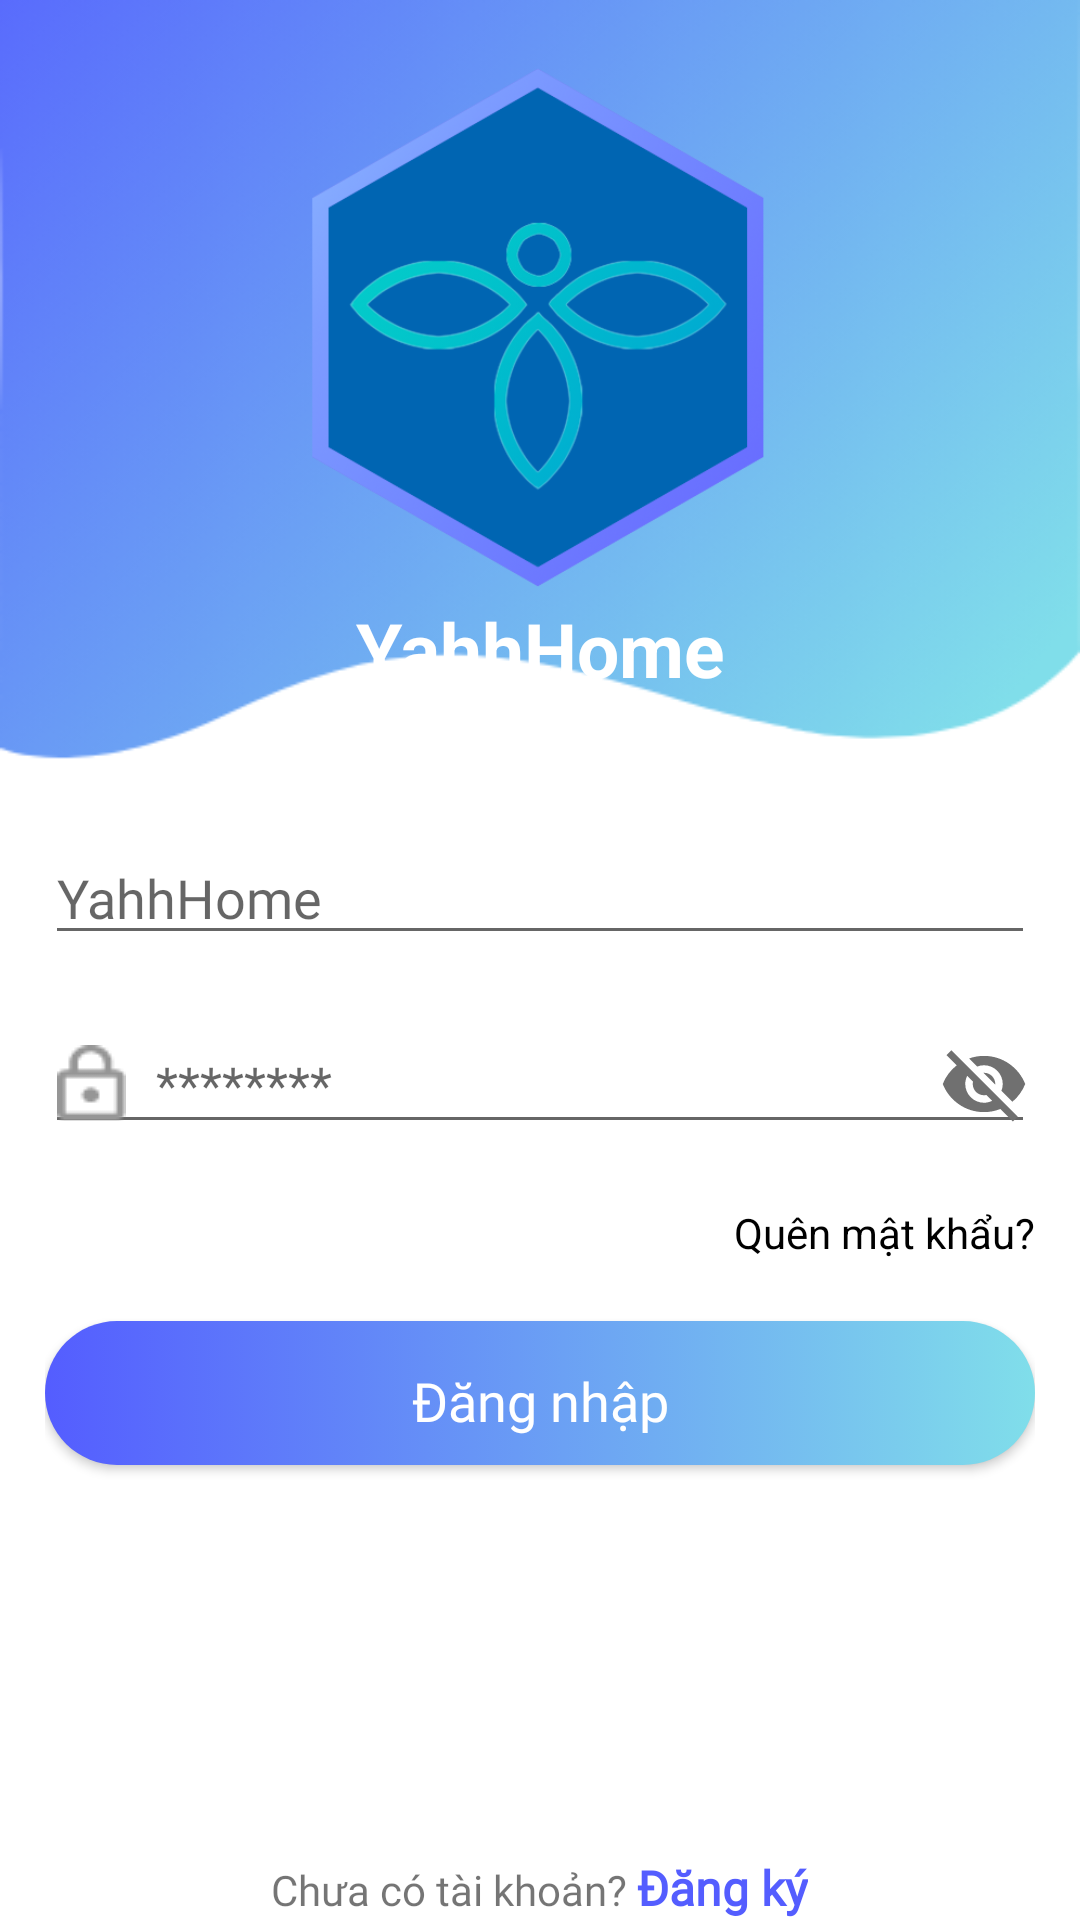

Point at icon controls on the screen. Image size 1080w x 1920h, points as (x,y).
visibility off: (982,1086)
